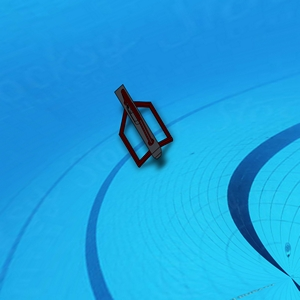submarine: (114, 85, 175, 166)
